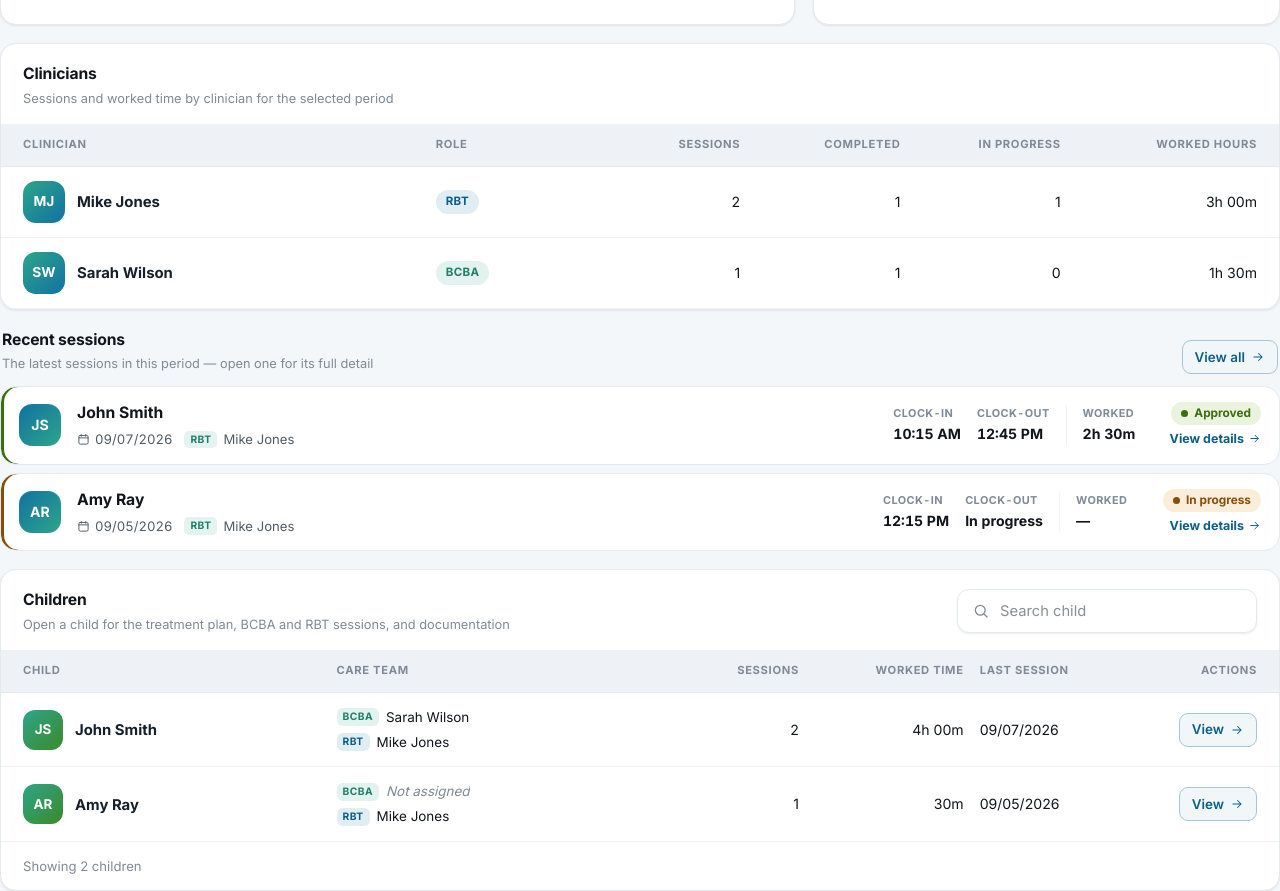
Test: AdminSessionOversightPage (Session Insights) › shows a no-plan message when the child has no active treatment plan
(page scrolled)
Click the list item that starts with "John Smith" at (640, 730), box [1, 693, 1279, 768]
(page scrolled)
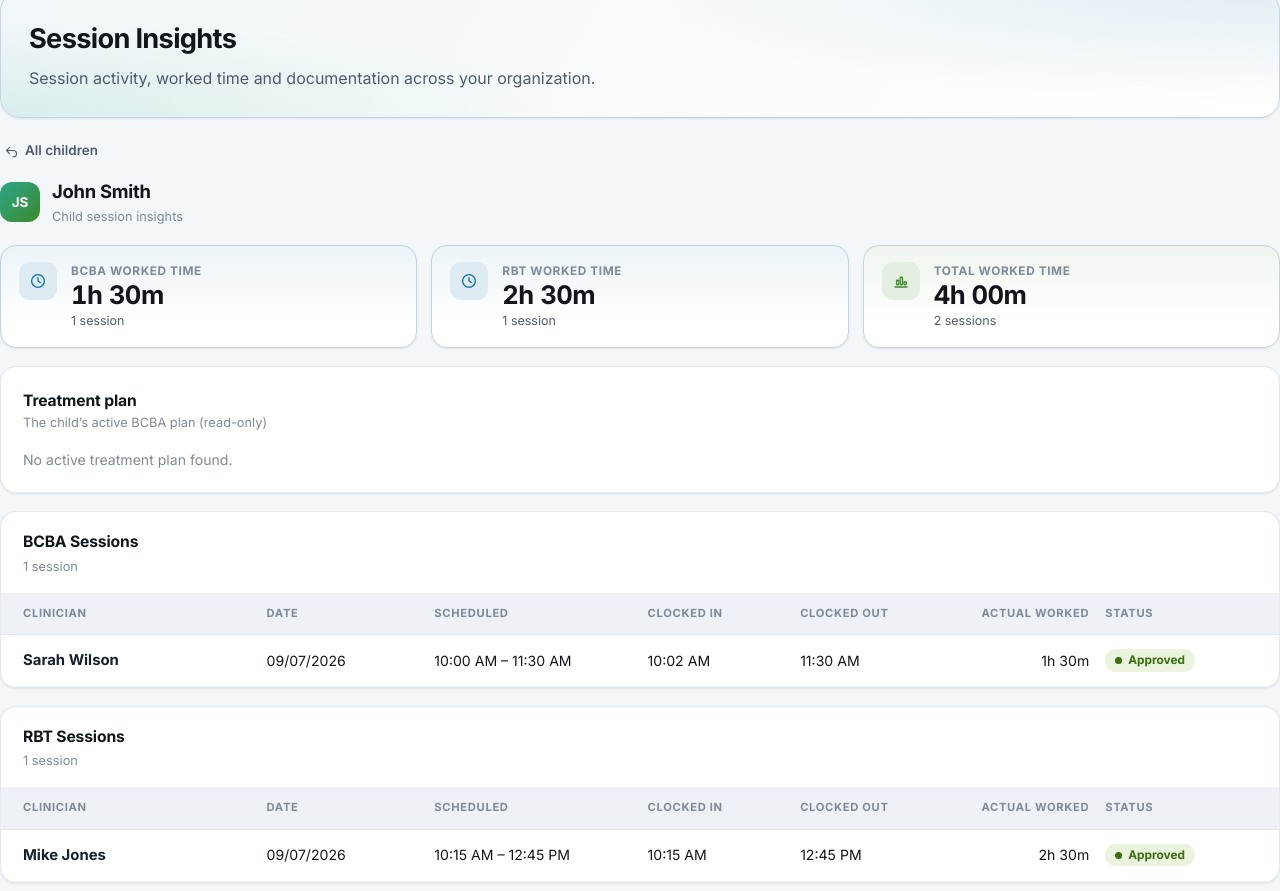
Check: the text "No active treatment plan found" is shown, box [23, 451, 232, 468]
